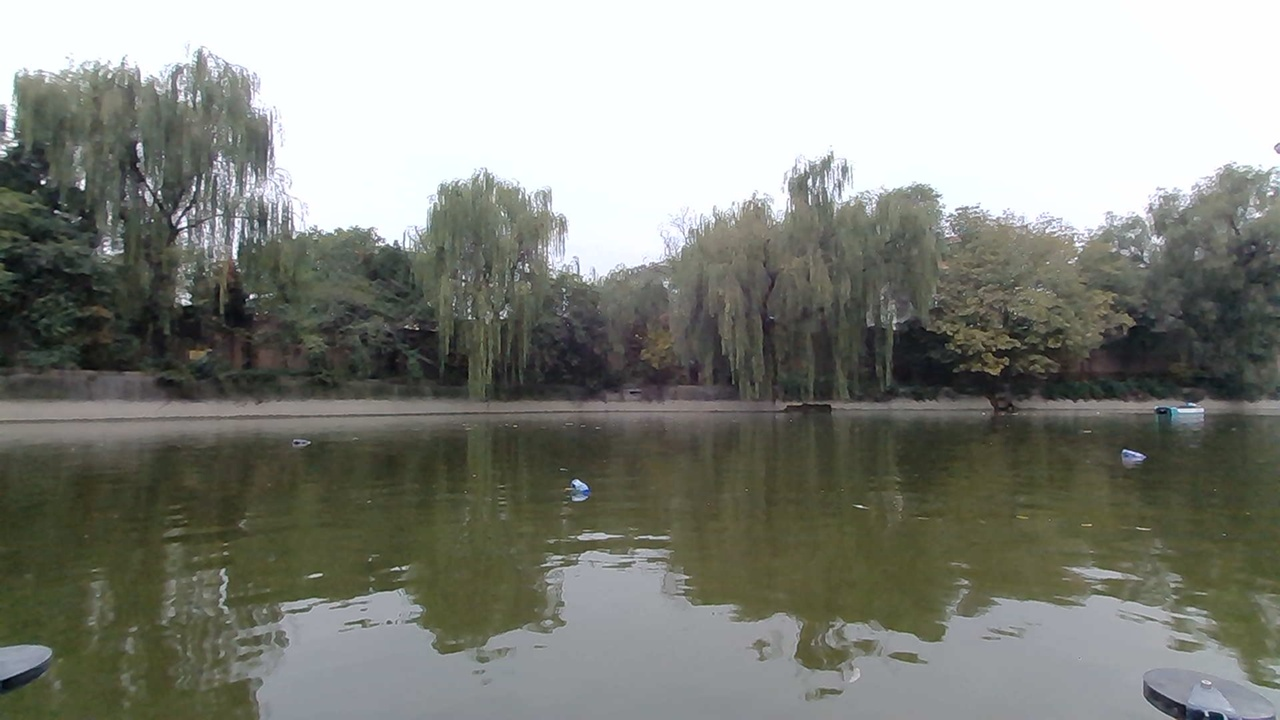bottle: (556, 471, 606, 508), (1112, 437, 1157, 471), (285, 420, 317, 454)
